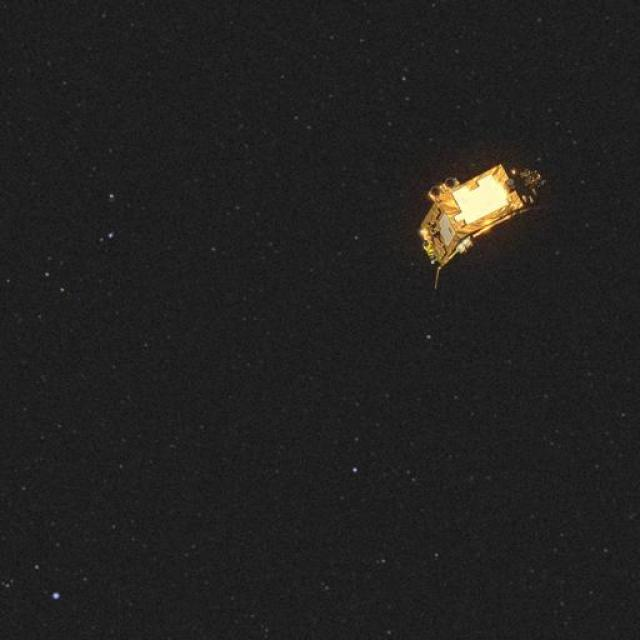lisa_pathfinder: (374, 140, 587, 326)
